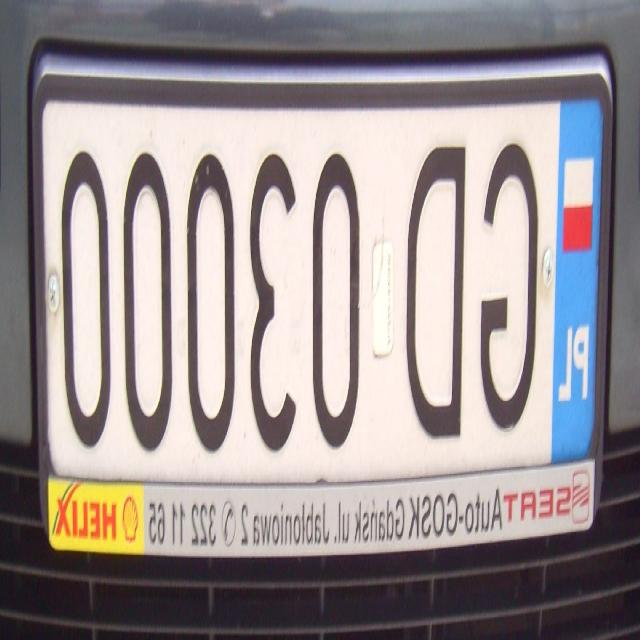pl_license_plate: (40, 72, 608, 486)
